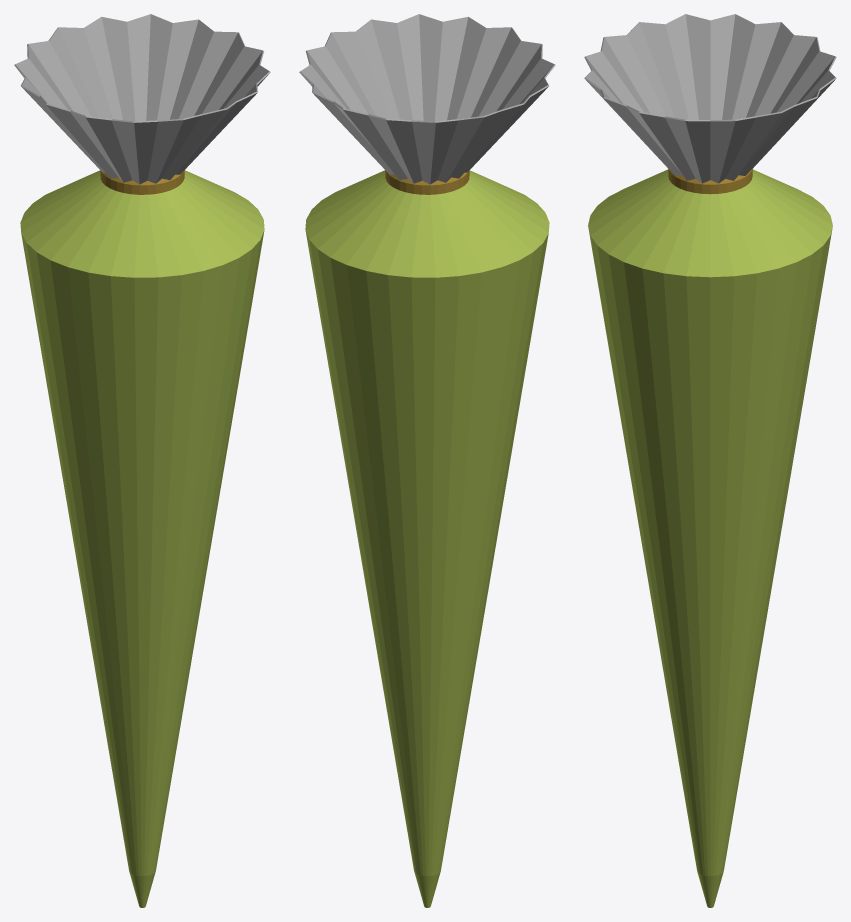
Rendered from piping bag matcha.fbx.
3 views of the same model, side by side, from view 1: azimuth 30°, elevation 25°; view 2: azimuth 150°, elevation 25°; view 3: azimuth 270°, elevation 25° (orthographic).
Visible parts, largest first — view 1: Cylinder; view 2: Cylinder; view 3: Cylinder.
Part boxes in pixels (x1=…): Cylinder: x1=14, y1=14, x2=270, y2=907; Cylinder: x1=299, y1=14, x2=555, y2=907; Cylinder: x1=584, y1=14, x2=836, y2=907.
Size of the model in its own units: 114 by 417 by 114.
